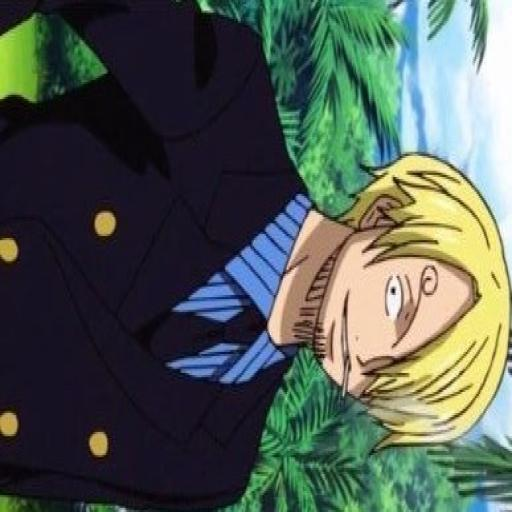sanji: (0, 1, 511, 503)
